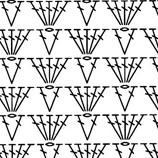enseble_chain: (42, 109, 79, 148), (117, 109, 154, 147), (3, 24, 40, 61), (117, 52, 153, 90), (81, 24, 116, 61), (43, 54, 78, 90), (82, 82, 115, 118), (7, 83, 40, 118), (99, 110, 130, 147), (26, 110, 55, 147), (62, 81, 91, 117), (115, 0, 148, 31), (43, 0, 76, 31), (113, 27, 144, 59), (38, 27, 69, 59), (26, 53, 54, 88), (63, 25, 91, 59), (77, 112, 106, 144), (2, 113, 31, 145), (4, 56, 31, 89), (103, 53, 129, 87), (39, 85, 68, 115), (102, 0, 130, 30), (79, 56, 106, 87), (118, 84, 144, 116), (4, 0, 30, 30), (135, 82, 158, 115), (79, 0, 105, 29), (71, 56, 93, 87), (0, 85, 17, 116), (14, 140, 37, 158)
fan: (29, 0, 52, 28), (1, 28, 19, 56), (6, 85, 23, 113), (81, 28, 97, 56), (42, 57, 58, 84), (43, 114, 58, 142), (42, 1, 57, 25)
